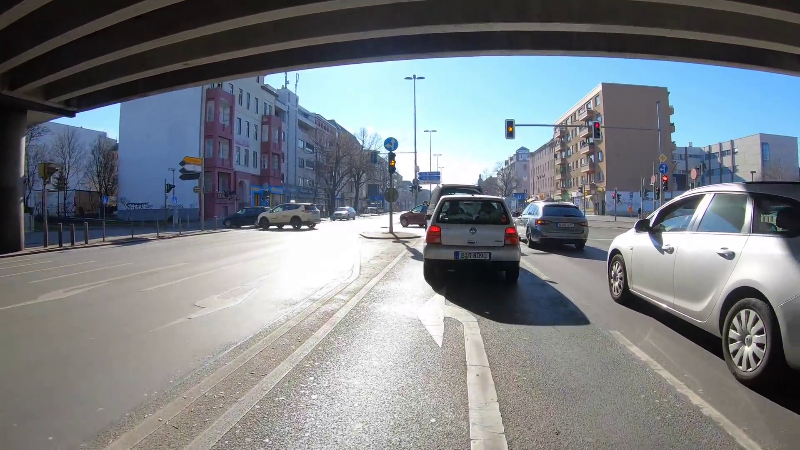Plate: (454, 251, 490, 260), (556, 220, 577, 228)
